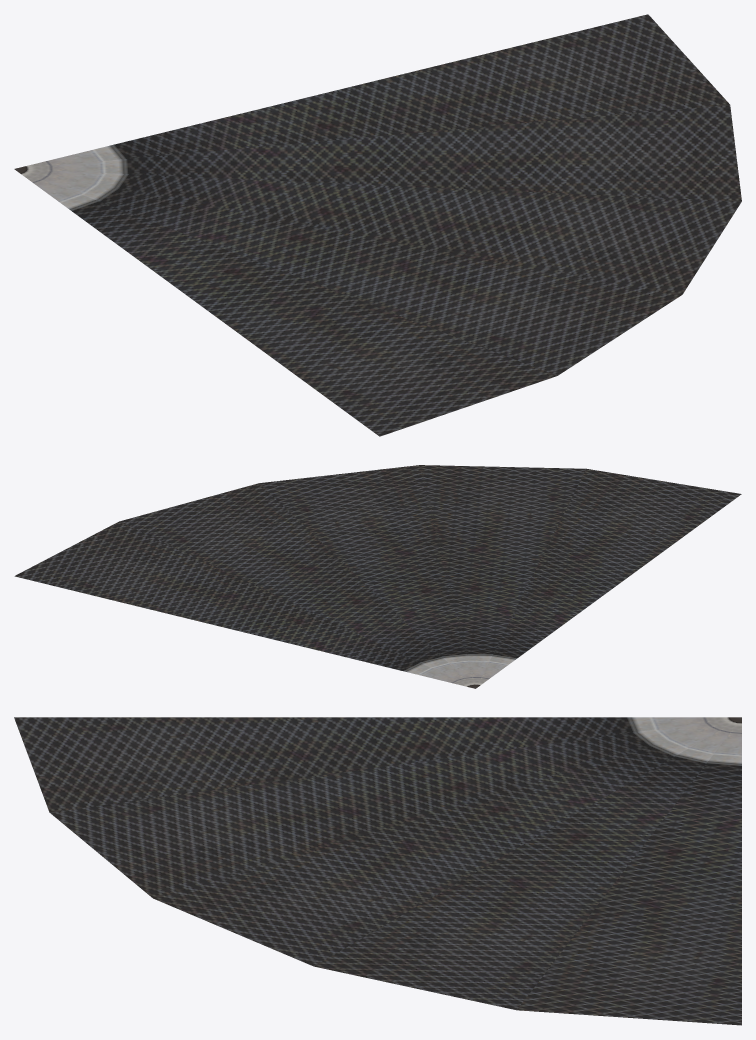
File: Floor_A_5mts_17.fbx
The picture shows the model from 3 angles, top to bottom: view 1: azimuth 30°, elevation 25°; view 2: azimuth 150°, elevation 25°; view 3: azimuth 270°, elevation 25°; orthographic projection. The views are drawn at different scales.
Visible parts, largest first — view 1: Floor_A_5mts_17; view 2: Floor_A_5mts_17; view 3: Floor_A_5mts_17.
Boxes of the visible parts, <box> form: Floor_A_5mts_17: <box>14,14,741,436</box>; Floor_A_5mts_17: <box>14,465,741,688</box>; Floor_A_5mts_17: <box>14,717,741,1025</box>.
Bounding box in the file's own units: 161 × 0.00575 × 161.
